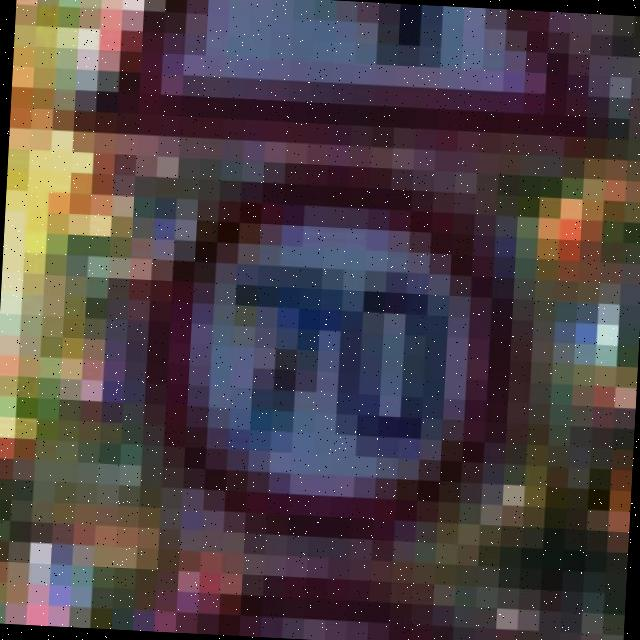Ograniczenie predkosci do 70: (143, 155, 539, 544)
